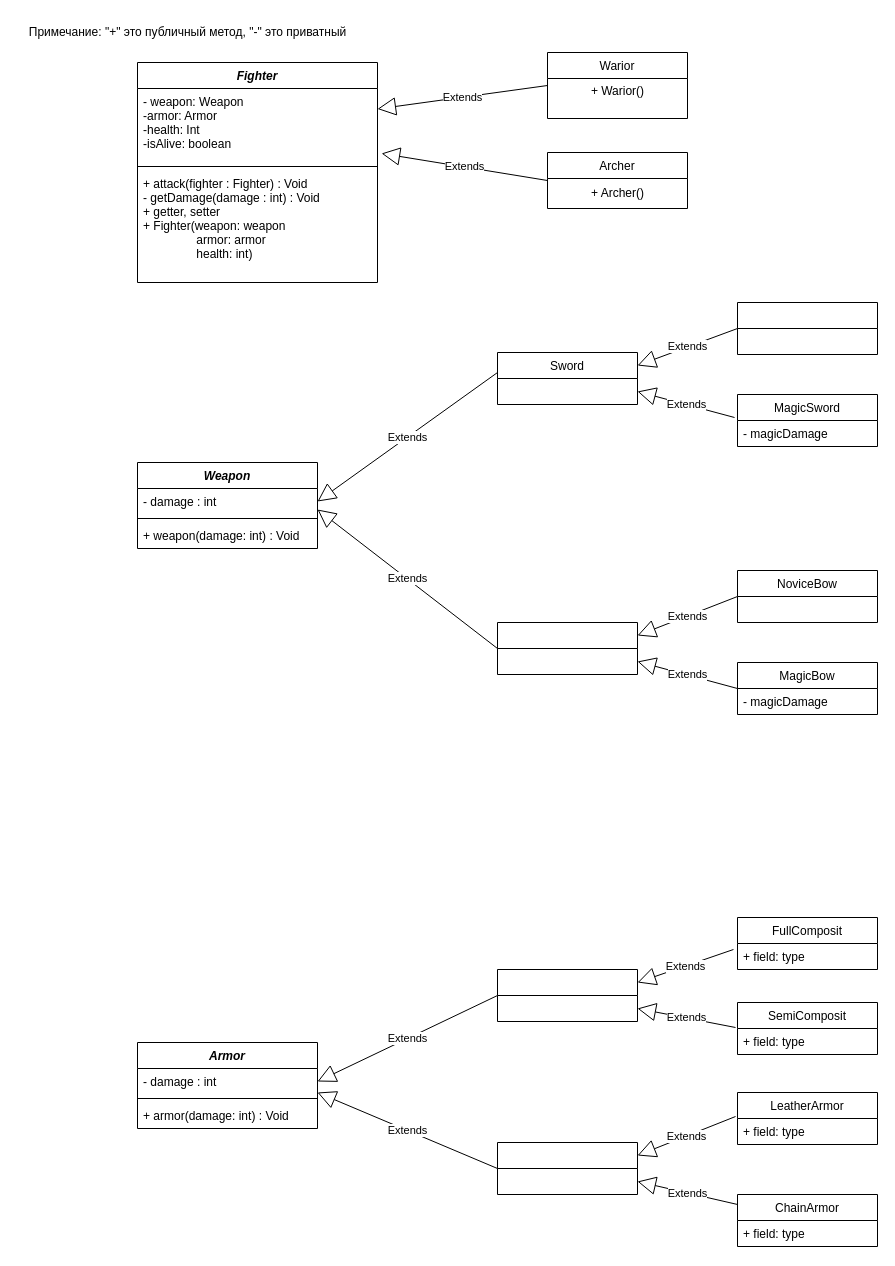
This 895x1266 diagram has some shape labels left out. Here are the shapes that lost their labels. From the top down, the centre of each, then its label:
At (x=807, y=328): "NoviceSword".
At (x=567, y=648): "Bow".
At (x=567, y=995): "HeavyArmor".
At (x=567, y=1168): "LightArmor".
